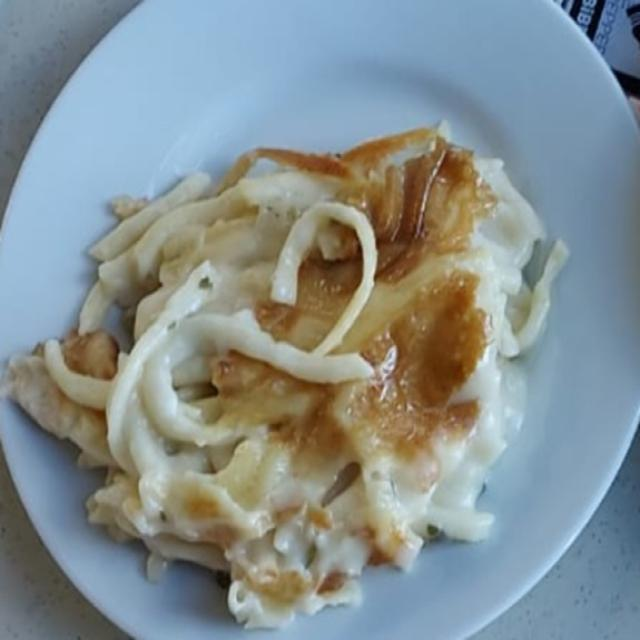ana_yemek: (2, 117, 569, 632)
